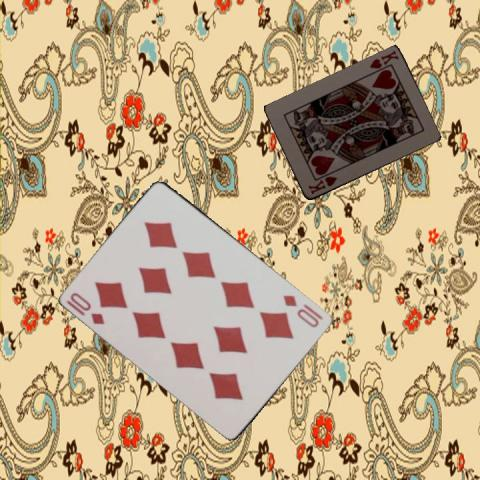10d: (63, 289, 107, 327), (281, 292, 320, 329)
Kh: (305, 173, 339, 196), (367, 48, 400, 71)
